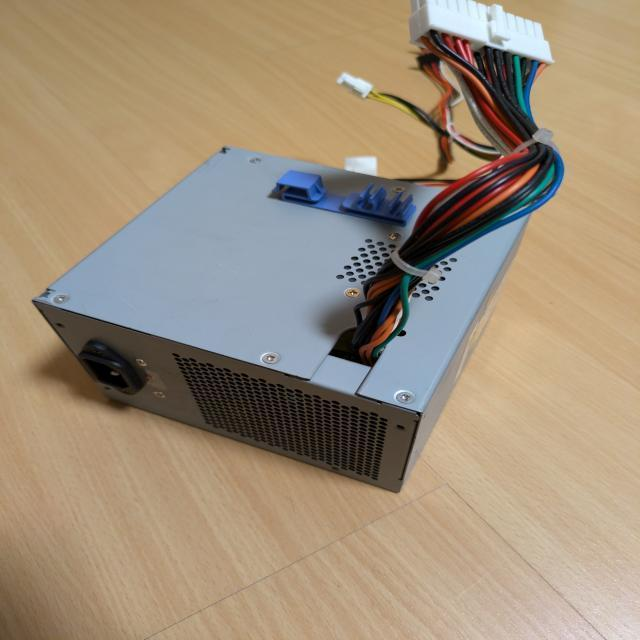PSU: (31, 144, 536, 494)
